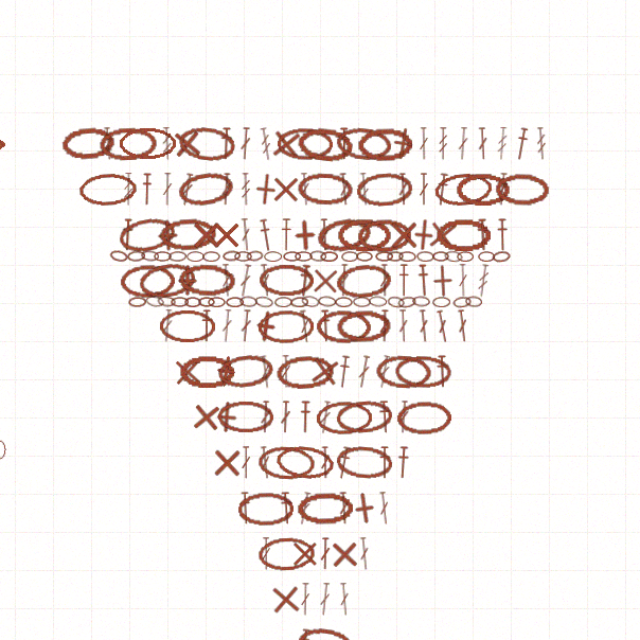chain: (132, 204, 189, 244), (319, 204, 375, 244), (151, 247, 208, 286), (188, 161, 245, 200), (281, 420, 338, 457), (301, 592, 357, 629), (189, 119, 245, 156), (226, 334, 281, 371), (431, 163, 487, 199), (338, 249, 393, 285), (301, 120, 356, 156), (338, 120, 393, 156), (338, 421, 394, 456), (338, 378, 394, 413), (357, 163, 413, 198), (282, 336, 337, 370), (96, 164, 151, 198), (79, 120, 132, 155), (115, 121, 170, 154), (265, 508, 319, 541), (265, 422, 319, 455), (190, 250, 244, 283), (172, 207, 226, 240), (302, 164, 356, 197), (394, 337, 449, 369), (376, 336, 429, 369), (320, 380, 374, 412), (246, 466, 299, 498), (302, 466, 355, 498), (265, 294, 318, 326), (320, 294, 373, 326), (339, 294, 392, 326), (283, 122, 336, 154), (227, 380, 281, 411), (172, 294, 226, 325), (134, 122, 188, 153), (396, 380, 448, 412), (135, 251, 187, 283), (359, 208, 411, 240), (489, 165, 541, 197), (359, 122, 411, 154), (191, 337, 243, 368), (266, 251, 318, 282), (340, 208, 392, 239), (433, 208, 485, 239), (452, 165, 504, 196), (159, 280, 177, 293), (306, 280, 324, 293), (125, 237, 143, 250), (306, 625, 324, 637), (262, 281, 280, 293), (397, 281, 415, 293), (449, 281, 467, 293), (441, 238, 459, 250), (486, 238, 504, 250), (387, 281, 404, 293), (170, 281, 188, 292), (248, 281, 265, 292), (322, 281, 339, 292), (370, 281, 387, 292), (411, 281, 428, 292), (142, 238, 159, 249), (155, 238, 172, 249), (232, 238, 249, 249), (254, 238, 271, 249), (461, 281, 477, 292), (314, 238, 330, 249), (292, 626, 309, 636), (316, 626, 333, 636), (143, 282, 160, 292), (183, 282, 200, 292), (218, 282, 235, 292), (235, 282, 252, 292), (281, 282, 298, 292), (296, 282, 313, 292), (338, 282, 355, 292), (355, 282, 372, 292), (430, 282, 447, 292), (167, 239, 184, 249), (181, 239, 198, 249), (198, 239, 215, 249), (213, 239, 230, 249), (243, 239, 260, 249), (271, 239, 288, 249), (289, 239, 306, 249), (300, 239, 317, 249), (324, 239, 341, 249), (376, 239, 393, 249), (398, 239, 415, 249), (415, 239, 432, 249), (196, 282, 212, 292), (209, 282, 225, 292), (344, 239, 360, 249), (358, 239, 374, 249), (387, 239, 403, 249), (430, 239, 446, 249), (453, 239, 469, 249), (473, 239, 489, 249)
double: (302, 466, 317, 498), (358, 337, 373, 369), (377, 337, 392, 369), (432, 294, 447, 326), (246, 251, 261, 283), (191, 165, 206, 197), (322, 380, 336, 412), (266, 337, 279, 369), (303, 294, 316, 326), (322, 552, 335, 583), (378, 466, 391, 497), (266, 423, 279, 454), (452, 294, 465, 325), (266, 251, 279, 282), (341, 552, 353, 583), (360, 509, 372, 540), (397, 380, 409, 411), (174, 294, 186, 325), (230, 294, 242, 325), (248, 294, 260, 325), (416, 294, 428, 325), (230, 251, 242, 282), (248, 208, 260, 239), (304, 165, 316, 196), (341, 165, 353, 196), (490, 165, 502, 196), (118, 122, 130, 153), (453, 122, 465, 153), (341, 466, 352, 497), (267, 380, 278, 411), (286, 380, 297, 411), (397, 294, 408, 325), (341, 251, 352, 282), (323, 208, 334, 239), (230, 165, 241, 196), (397, 165, 408, 196), (248, 122, 259, 153), (472, 122, 483, 153), (305, 552, 315, 583), (268, 509, 278, 540), (324, 509, 334, 540), (249, 423, 259, 454), (324, 423, 334, 454), (287, 337, 297, 368), (380, 294, 390, 325), (380, 251, 390, 282), (454, 251, 464, 282), (175, 165, 185, 196), (417, 165, 427, 196), (417, 122, 427, 153)
half_double: (338, 423, 355, 455), (506, 122, 523, 154), (265, 208, 281, 240), (302, 595, 317, 627), (339, 337, 354, 369), (302, 251, 317, 283), (432, 165, 447, 197), (285, 466, 299, 497), (378, 380, 392, 411), (247, 466, 260, 497), (396, 423, 409, 454), (433, 337, 446, 368), (415, 251, 428, 282), (136, 208, 149, 239), (471, 208, 484, 239), (229, 122, 242, 153), (379, 423, 391, 454), (304, 380, 316, 411), (211, 294, 223, 325), (323, 294, 335, 325), (397, 251, 409, 282), (286, 208, 298, 239), (490, 208, 502, 239), (155, 165, 166, 196), (341, 122, 352, 153)
noise: (5, 414, 29, 438), (0, 604, 27, 618), (1, 133, 29, 144), (0, 312, 13, 332), (0, 511, 11, 527)
single: (348, 464, 383, 499), (218, 335, 253, 370), (311, 335, 346, 370), (385, 120, 420, 155), (256, 293, 290, 327), (275, 121, 309, 155), (423, 207, 456, 241), (275, 551, 308, 584), (200, 379, 233, 412), (219, 379, 252, 412), (405, 207, 438, 240), (256, 164, 289, 197), (182, 121, 215, 154), (331, 509, 363, 541), (183, 337, 215, 369), (313, 251, 345, 283), (424, 251, 456, 283), (164, 208, 196, 240), (294, 208, 326, 240), (294, 509, 325, 540), (183, 251, 214, 282), (201, 208, 232, 239), (220, 208, 251, 239), (276, 165, 307, 196), (221, 423, 251, 454), (388, 208, 418, 239)
treble: (471, 251, 485, 283), (266, 122, 280, 154), (360, 165, 372, 196), (490, 122, 502, 153), (527, 122, 539, 153), (174, 122, 185, 153), (138, 165, 148, 196), (249, 165, 259, 196), (435, 122, 445, 153)
